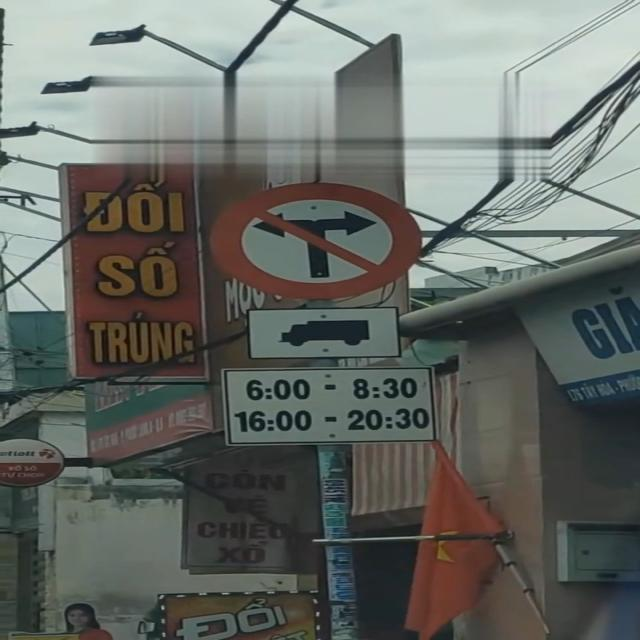137-cam-re-trai-va-re-phai: (216, 178, 417, 296)
